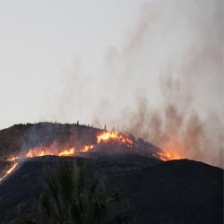fire: (2, 126, 200, 193)
